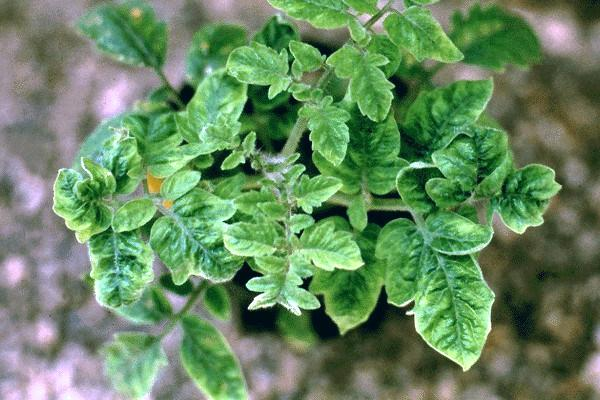Tomato leaf yellow virus: (387, 210, 500, 380), (134, 190, 239, 295), (65, 219, 161, 317), (400, 77, 500, 170), (325, 39, 397, 128), (179, 66, 247, 141), (287, 218, 363, 283), (220, 41, 298, 100), (214, 212, 289, 266)
